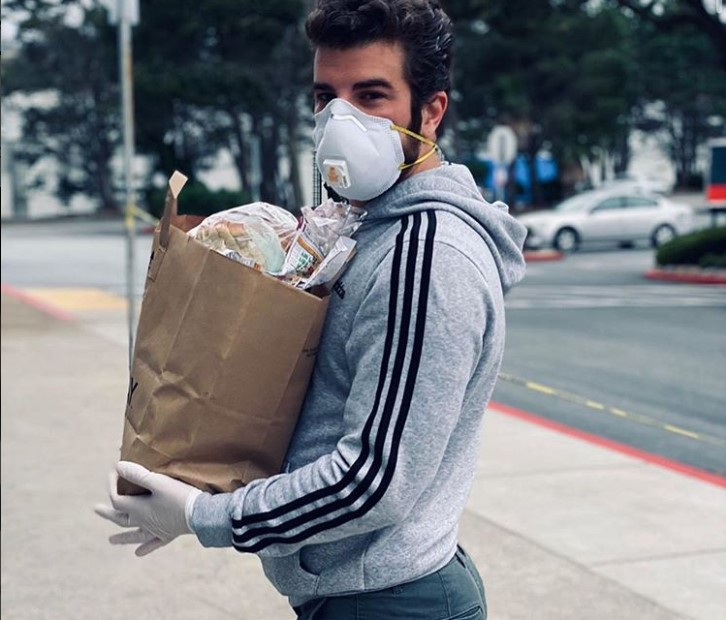face_with_mask: (306, 17, 452, 209)
